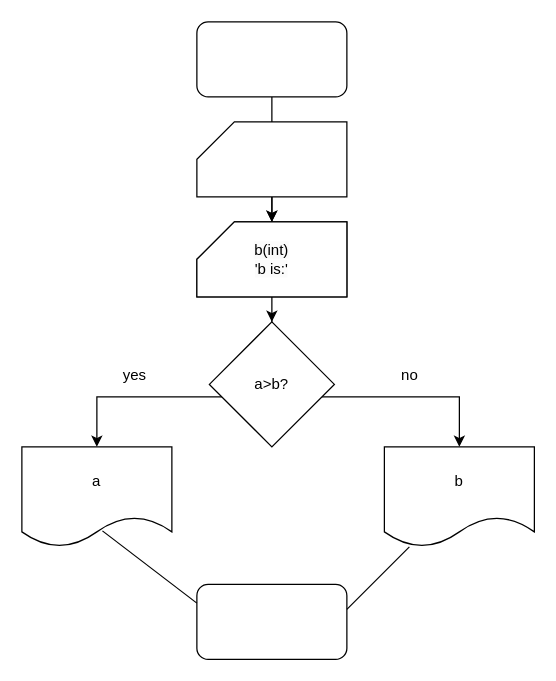
The diagram is 556 pixels wide and 681 high, and some of its shapes have lost their labels. The centre of each missing label's shape, as x and y in pixels:
"a(int) 'a is:'" goes at (271,159).
"end" goes at (271,621).
"start" goes at (271,59).
